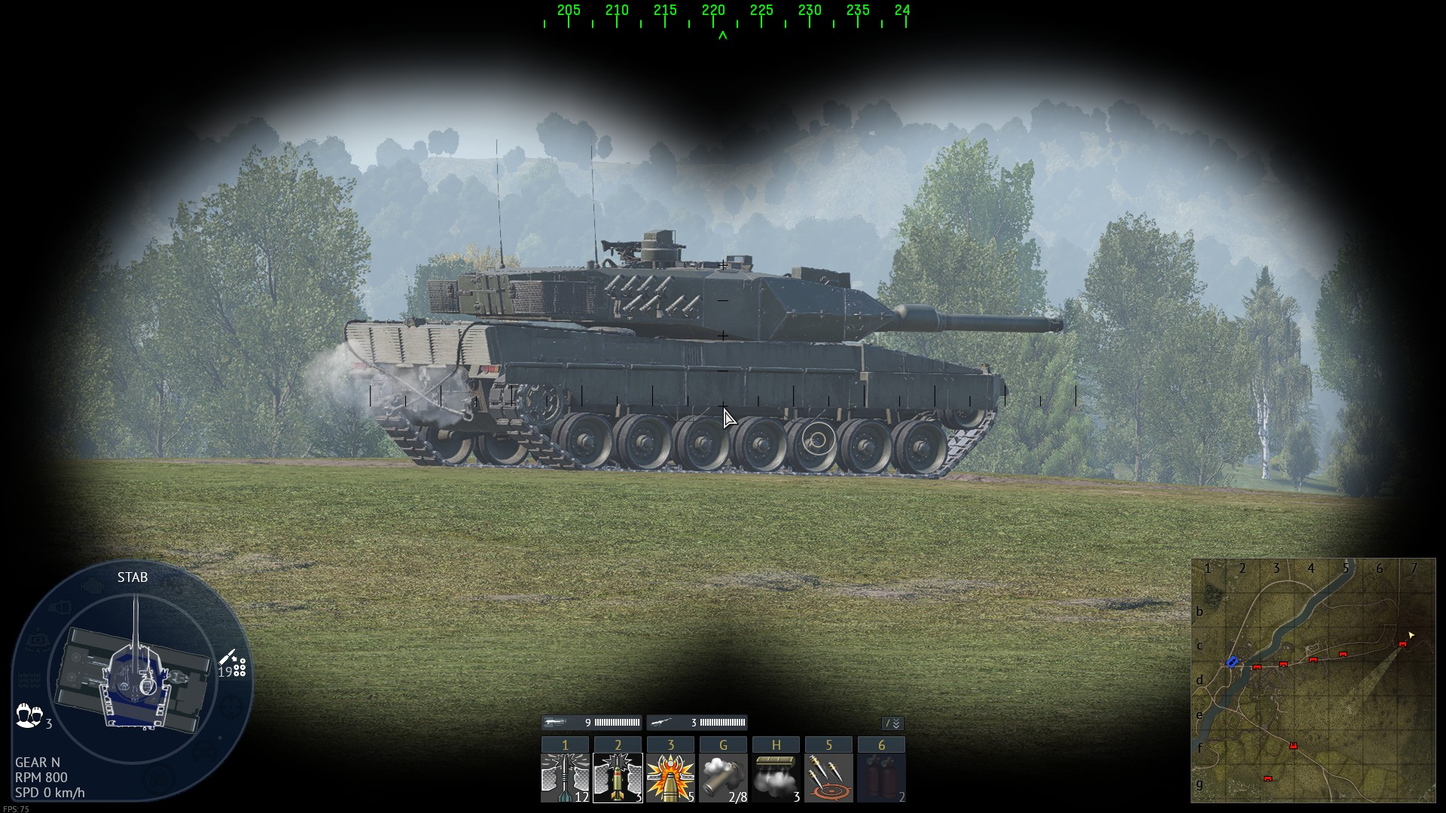leopard2: (344, 230, 1063, 479)
